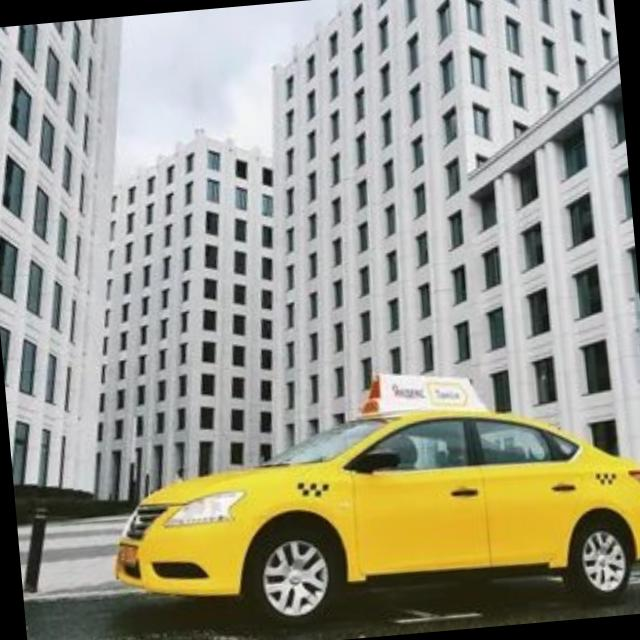taxi: (97, 349, 640, 640)
